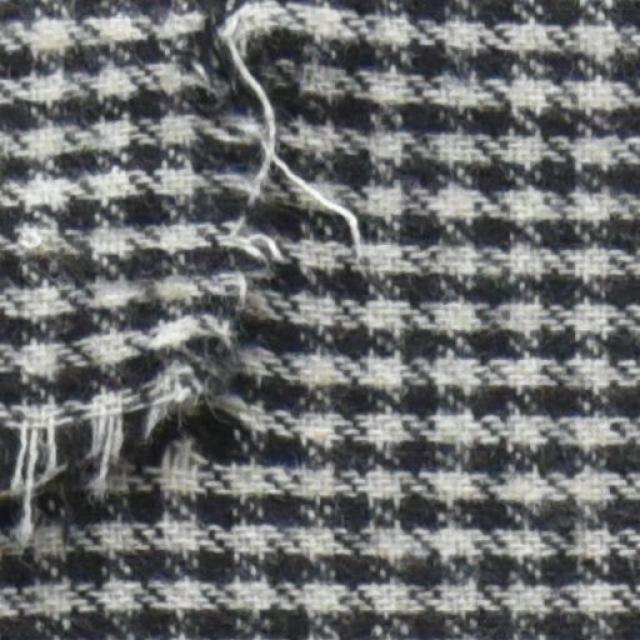Snag: (0, 0, 374, 546)
